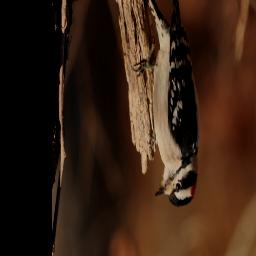Woodpecker: (132, 0, 200, 213)
